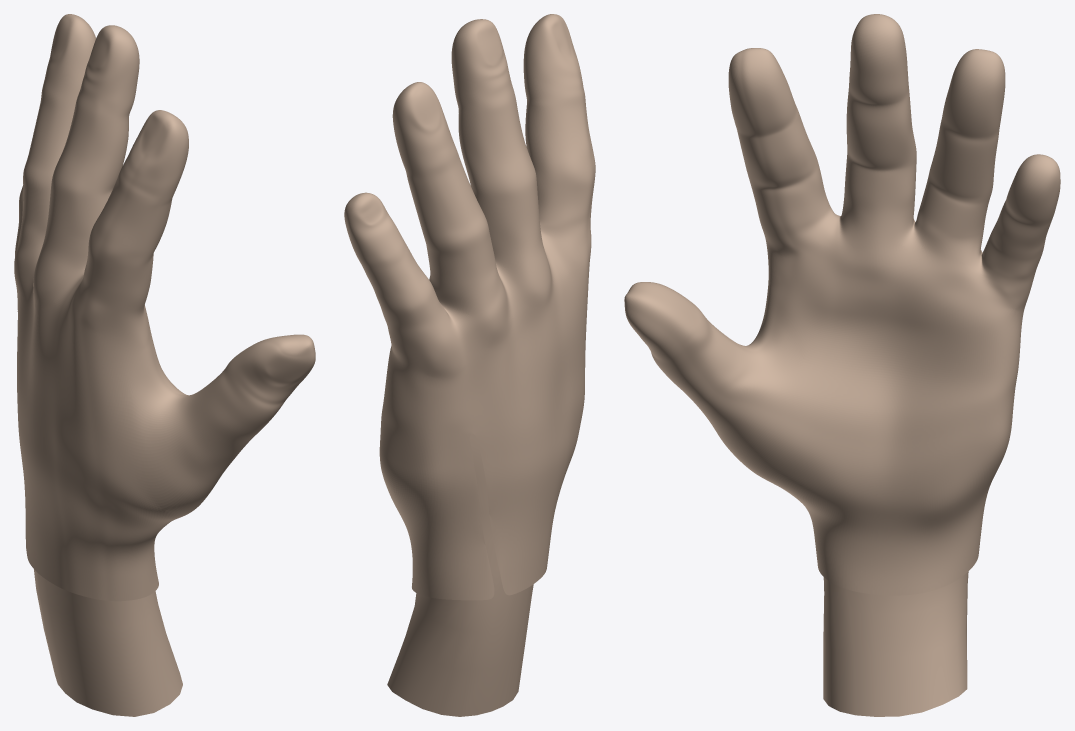
The model's file is LOV 2.glb.
3 renders of one model, left to right at view 1: azimuth 30°, elevation 25°; view 2: azimuth 150°, elevation 25°; view 3: azimuth 270°, elevation 25°, orthographic.
Parts seen in each view (by area): view 1: gloves, hand; view 2: gloves, hand; view 3: gloves, hand.
Part boxes in pixels (<box>): gloves: <box>14,14,315,601</box>; hand: <box>34,569,182,716</box>; gloves: <box>344,14,595,600</box>; hand: <box>387,433,533,716</box>; gloves: <box>624,14,1060,595</box>; hand: <box>823,571,968,716</box>.
Bounding box in the file's own units: 0.648 × 2.59 × 1.51.
